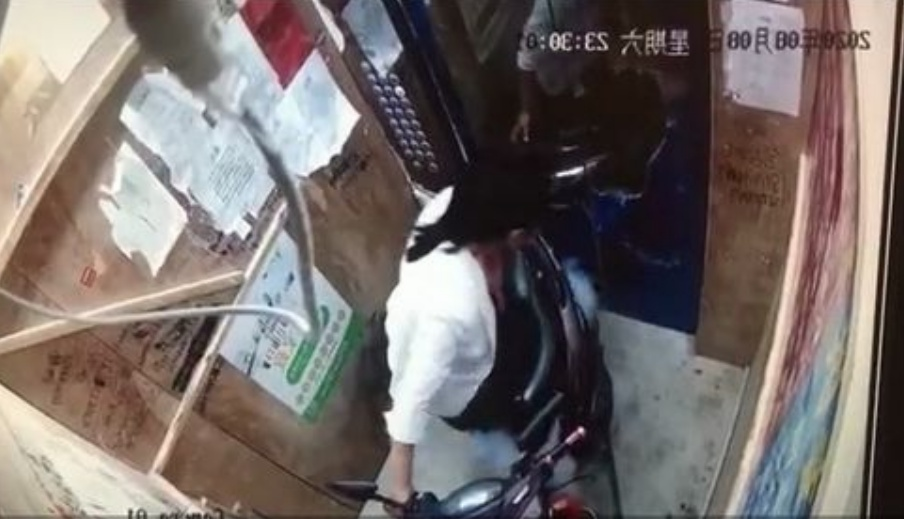ebike: (339, 209, 612, 519)
person: (383, 147, 552, 519)
